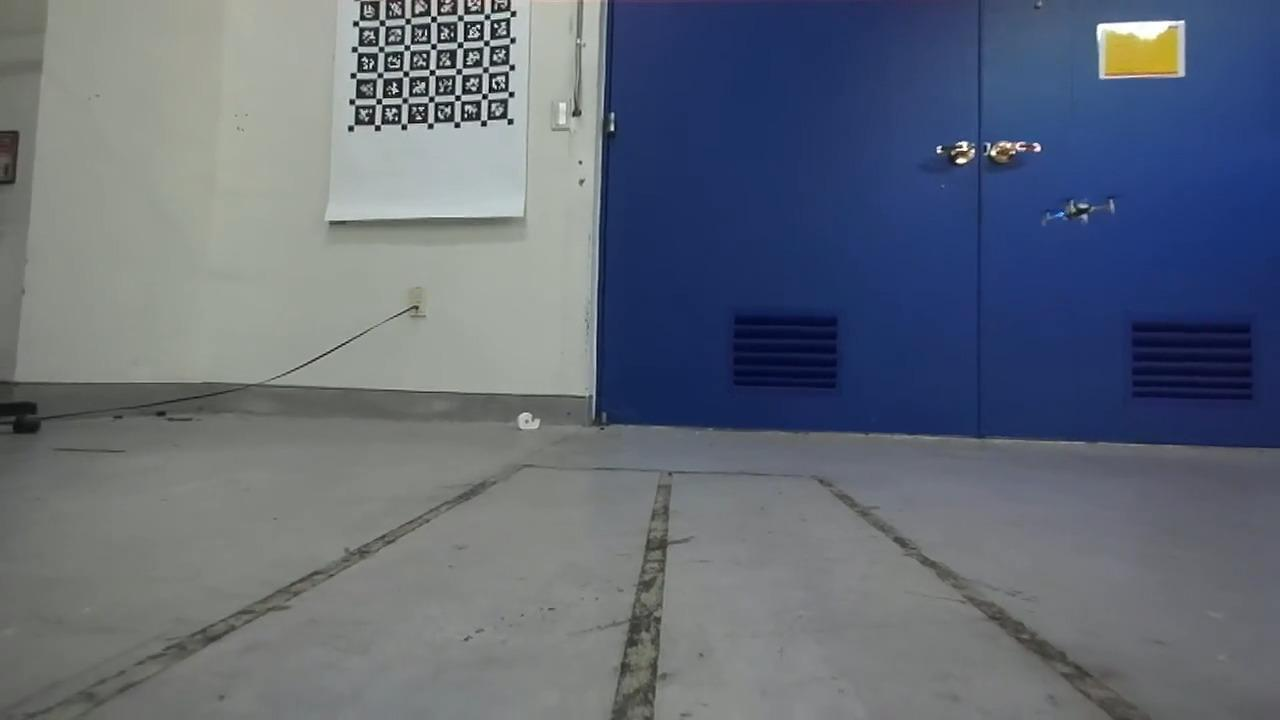crazyflie: (1025, 189, 1128, 234)
